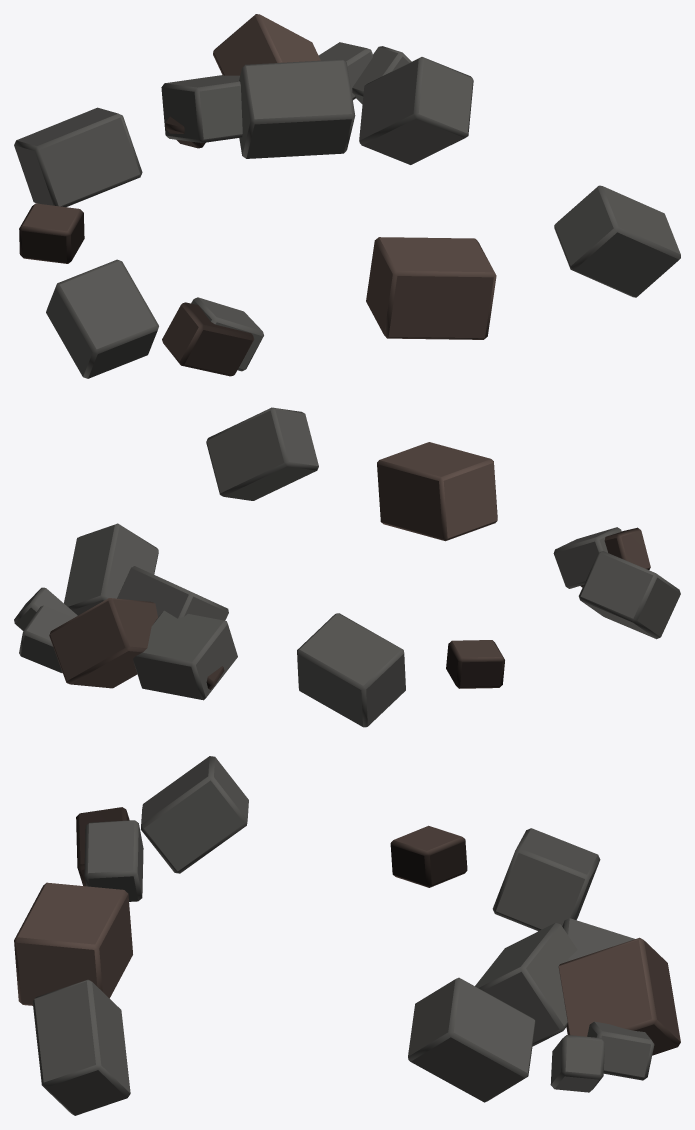
Rendered from prop_rubble.glb.
The picture shows the model from 3 angles, top to bottom: view 1: azimuth 30°, elevation 25°; view 2: azimuth 150°, elevation 25°; view 3: azimuth 270°, elevation 25°; orthographic projection. The views are drawn at different scales.
Parts seen in each view (by area): view 1: Rubble; view 2: Rubble; view 3: Rubble.
Boxes of the visible parts, x1=… form: Rubble: x1=14, y1=14, x2=680, y2=378; Rubble: x1=14, y1=407, x2=680, y2=727; Rubble: x1=14, y1=756, x2=680, y2=1115.
Size of the model in its own units: 2.55 by 0.5188 by 2.51.
